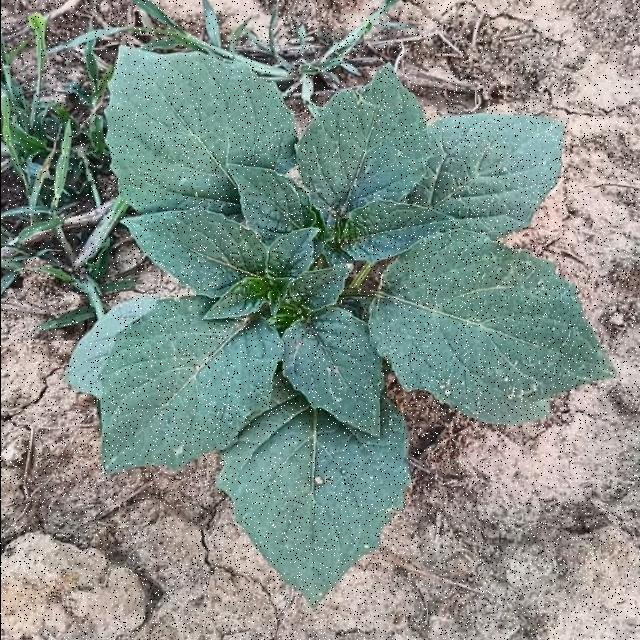weed: (66, 48, 613, 603)
